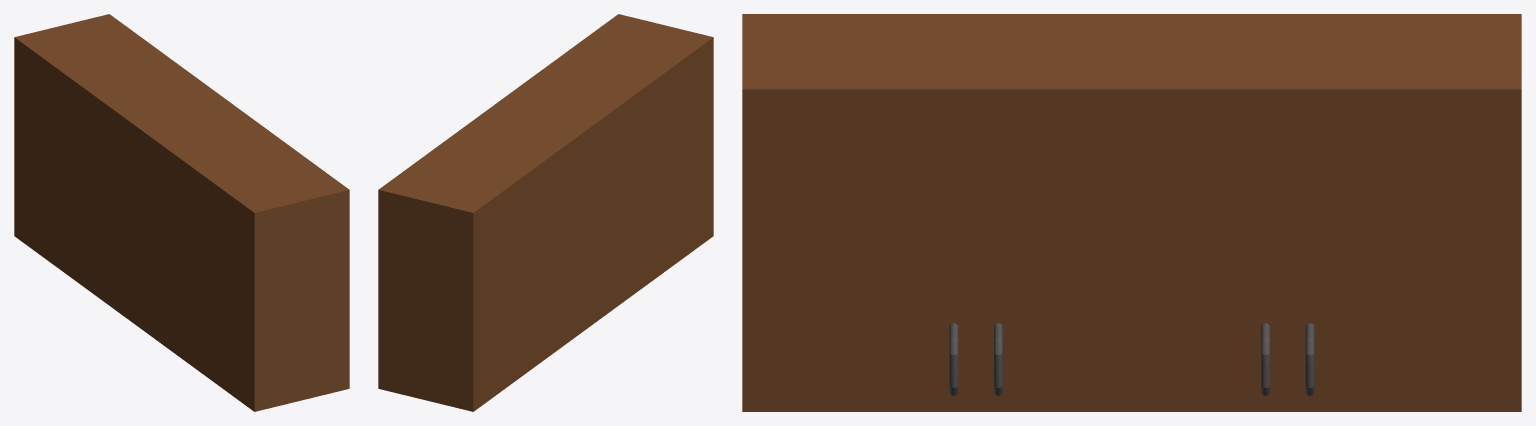
File: Hospital_Cabinet.fbx
The picture shows the model from 3 angles, left to right: view 1: azimuth 30°, elevation 25°; view 2: azimuth 150°, elevation 25°; view 3: azimuth 270°, elevation 25°; orthographic projection. The views are drawn at different scales.
Visible parts, largest first — view 1: Cube; view 2: Cube; view 3: Cube, Cylinder, Cylinder.003.
Boxes of the visible parts, x1,y1,x2,y2 form: Cube: (14,14,349,411); Cube: (378,14,713,411); Cube: (742,14,1521,411); Cylinder: (949,323,958,395); Cylinder.003: (1305,323,1314,395).
Size of the model in its own units: 51 by 80 by 175.
